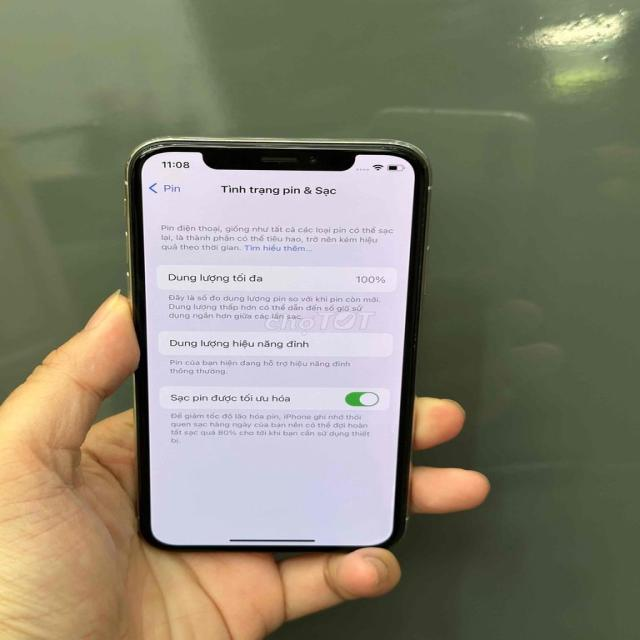scratch: (363, 130, 428, 162), (134, 130, 188, 165), (409, 333, 434, 356), (417, 247, 431, 271)
